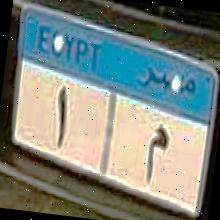1: (48, 82, 74, 152)
meem: (136, 115, 172, 192)
